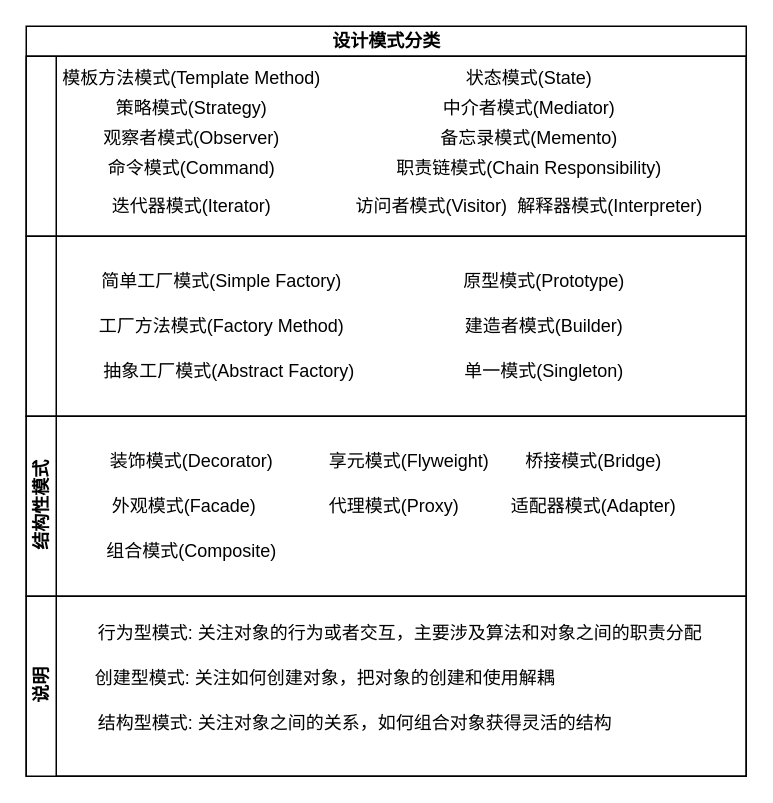
Image size: 773x803. Some labels were removed from this diagram. The box of each missing label's shape, as (x1, y1, x2, y2) in pixels:
创建型模式: (25, 235, 746, 416)
行为型模式: (25, 55, 746, 236)
